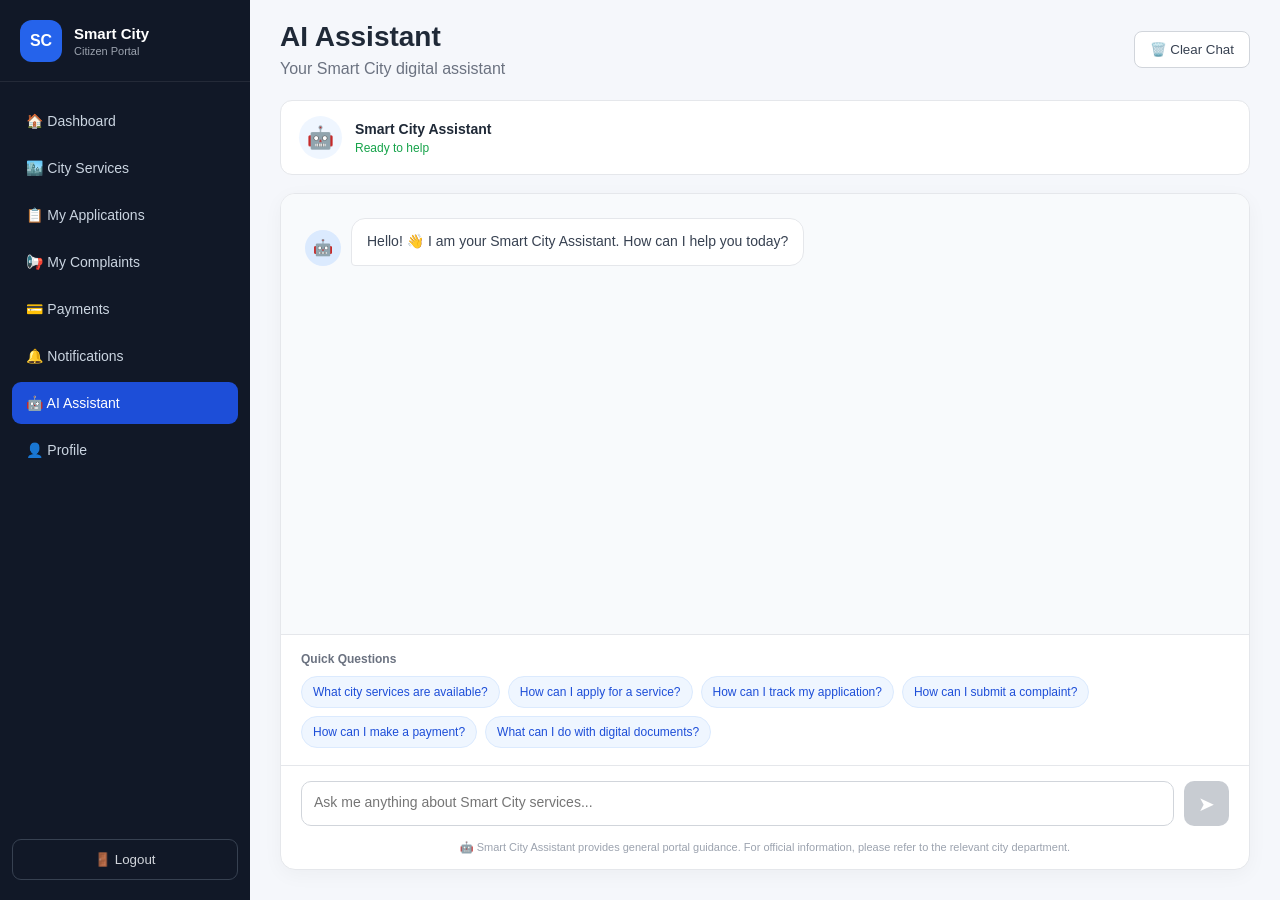
Test: network errors preserve the question and allow retry
(page scrolled)
Type "payment help" into the text box named "Your question" at {"x": 738, "y": 804}, box [301,781,1174,826]
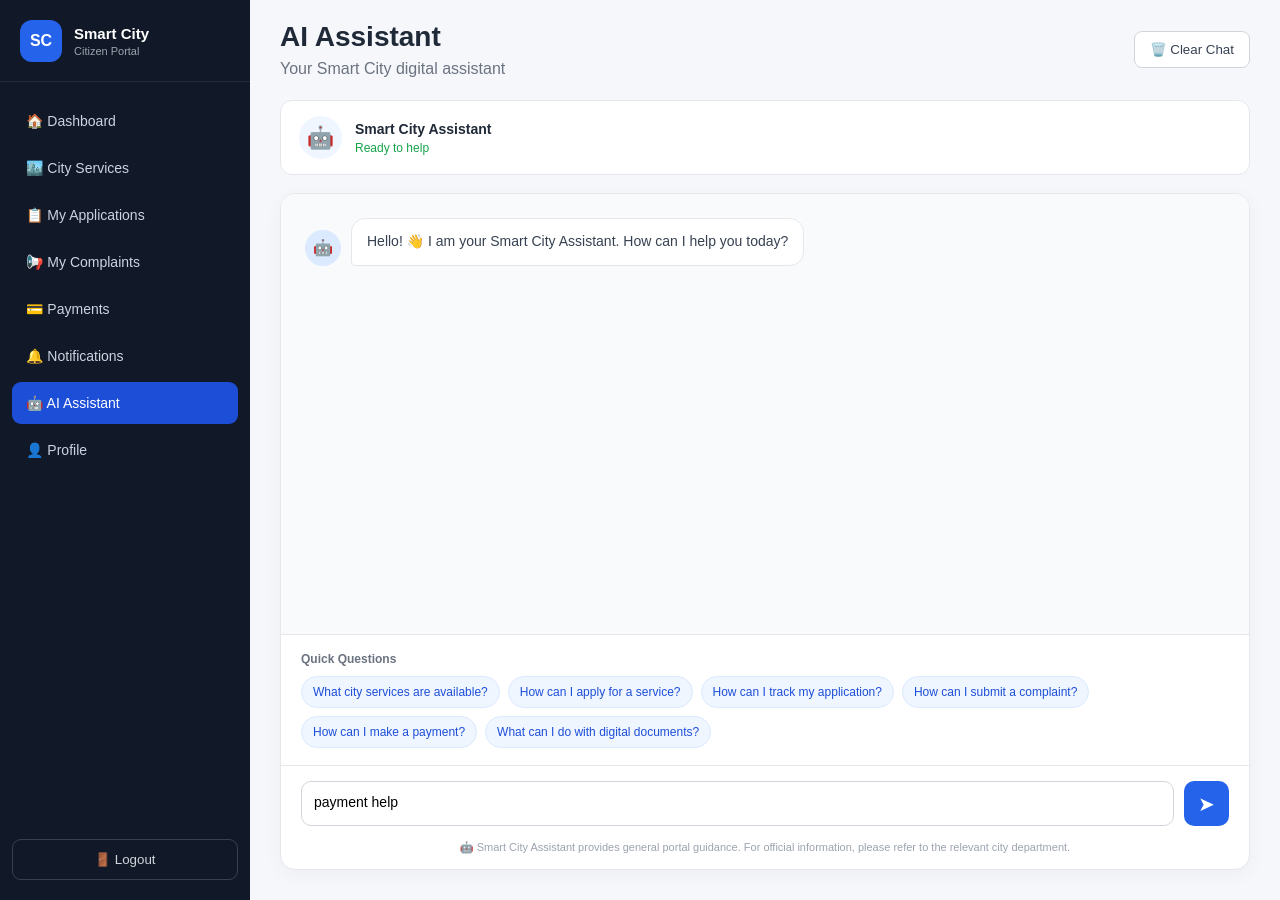
Click the button named "Send message" at {"x": 1206, "y": 804}, box [1184,781,1229,826]
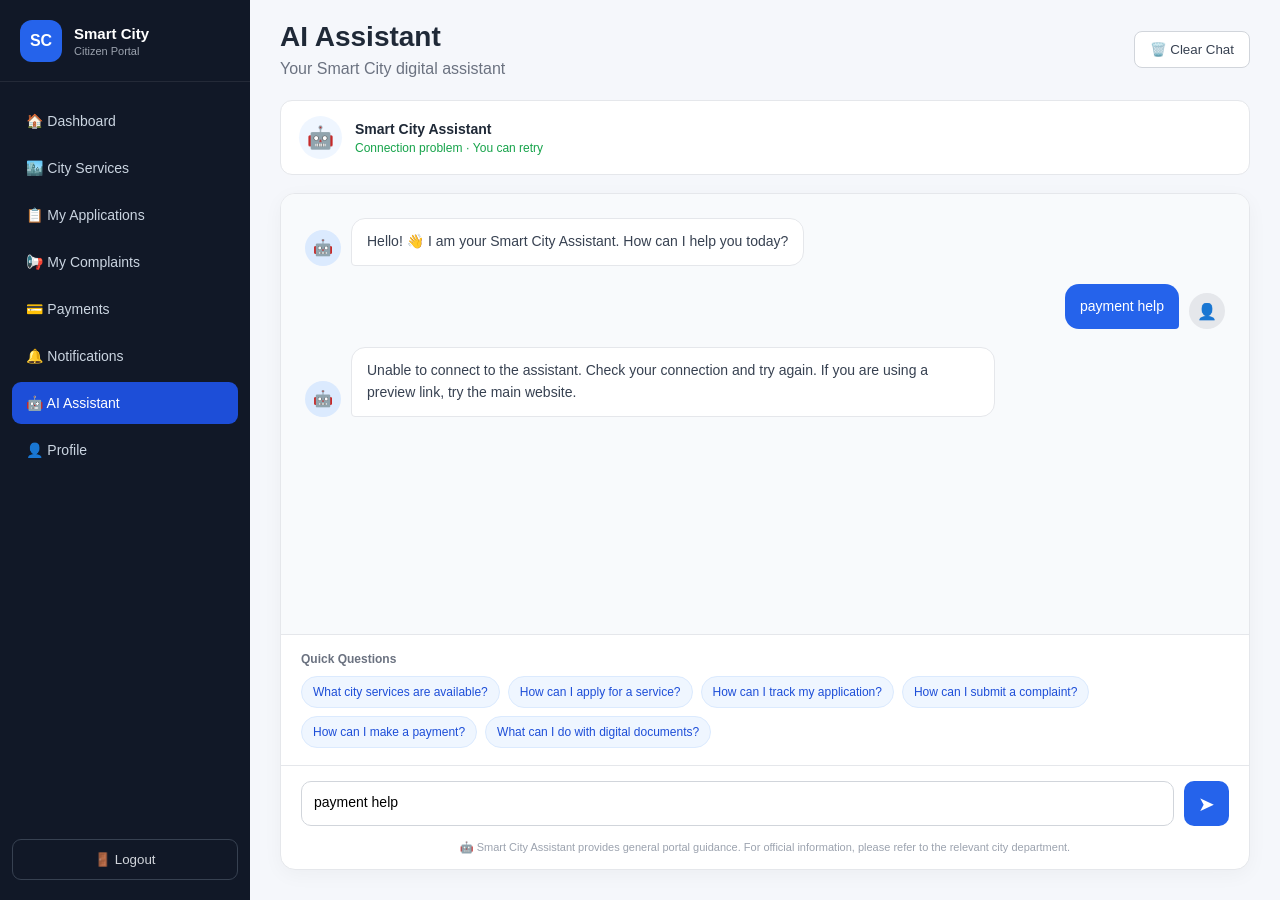
Expected: the button named "Send message" is enabled
Expected: the text "Unable to connect to the assistant" is shown, [367,362,932,400]
Click the button named "Send message" at {"x": 1206, "y": 804}, box [1184,781,1229,826]
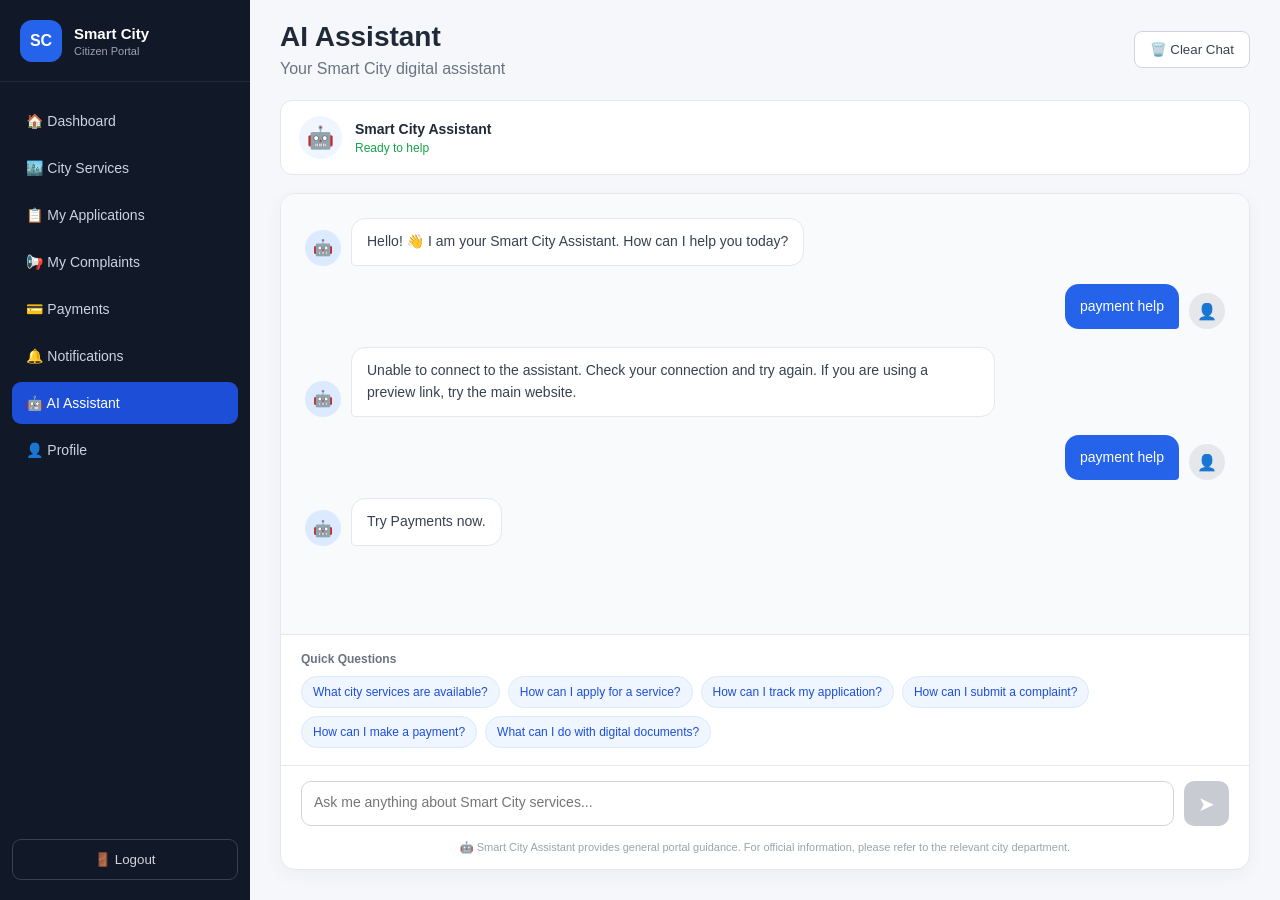
Expected: the text "Try Payments now." is shown, [351,498,502,546]
